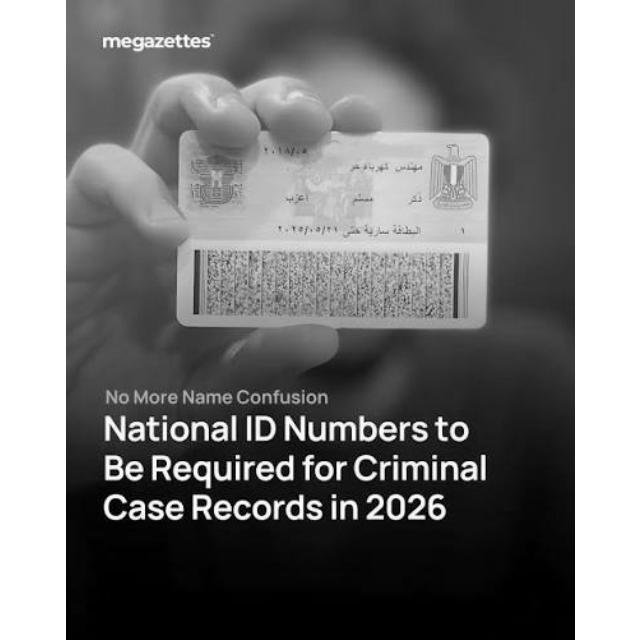back: (176, 132, 488, 328)
